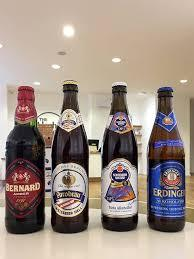Glass bottle: (1, 71, 194, 237)
